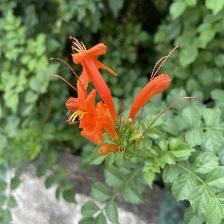honeysuckle: (73, 28, 119, 120), (63, 81, 116, 144)
